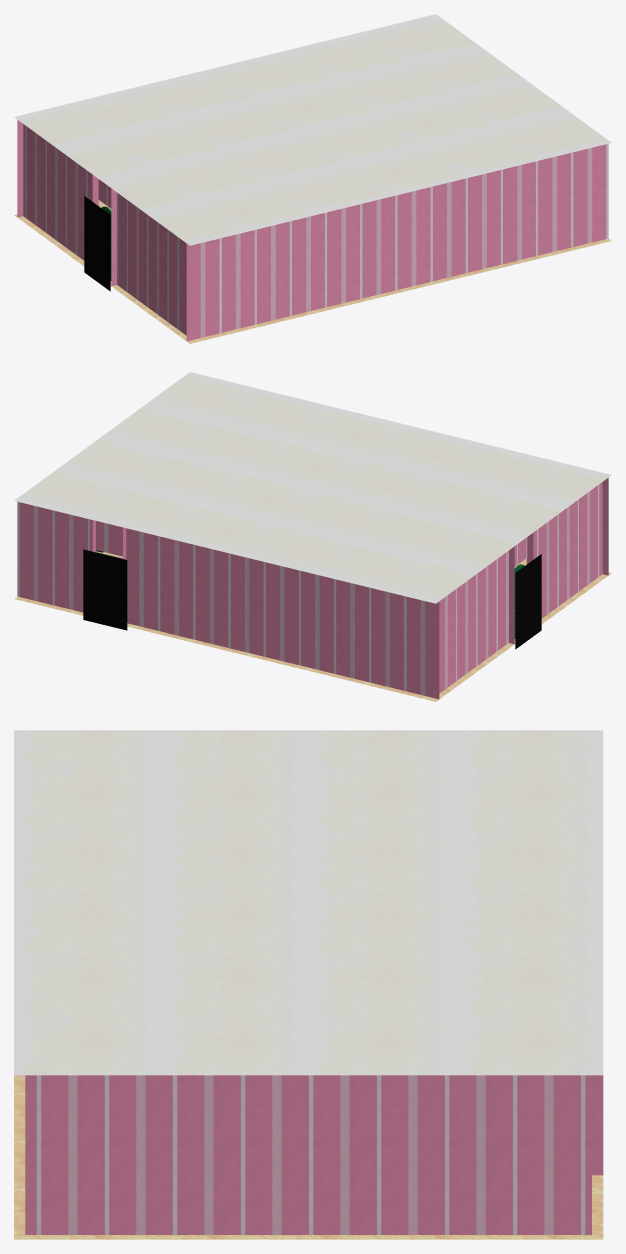
The model's file is rdwe_birthday_party.glb.
3 views of the same model, one above another, from view 1: azimuth 30°, elevation 25°; view 2: azimuth 150°, elevation 25°; view 3: azimuth 270°, elevation 25° (orthographic). The views are drawn at different scales.
Parts seen in each view (by area): view 1: Ceil_Plaster, Wall_Pink_Stripe, Floor_Parquet, Void; view 2: Ceil_Plaster, Wall_Pink_Stripe, Void, Floor_Parquet; view 3: Ceil_Plaster, Wall_Pink_Stripe, Floor_Parquet.
Part boxes in pixels (box(x1,y1,x2,y2)): Ceil_Plaster: box(14, 14, 611, 245); Wall_Pink_Stripe: box(17, 119, 608, 341); Floor_Parquet: box(14, 200, 611, 343); Void: box(84, 196, 110, 291); Ceil_Plaster: box(14, 372, 611, 603); Wall_Pink_Stripe: box(17, 477, 608, 699); Void: box(83, 549, 541, 649); Floor_Parquet: box(14, 552, 611, 701); Ceil_Plaster: box(14, 730, 603, 1075); Wall_Pink_Stripe: box(25, 1075, 603, 1234); Floor_Parquet: box(14, 1075, 603, 1239).
Bounding box in the file's own units: 14.55 × 3.25 × 10.55.
Materials: 35 (14 with a texture image).
